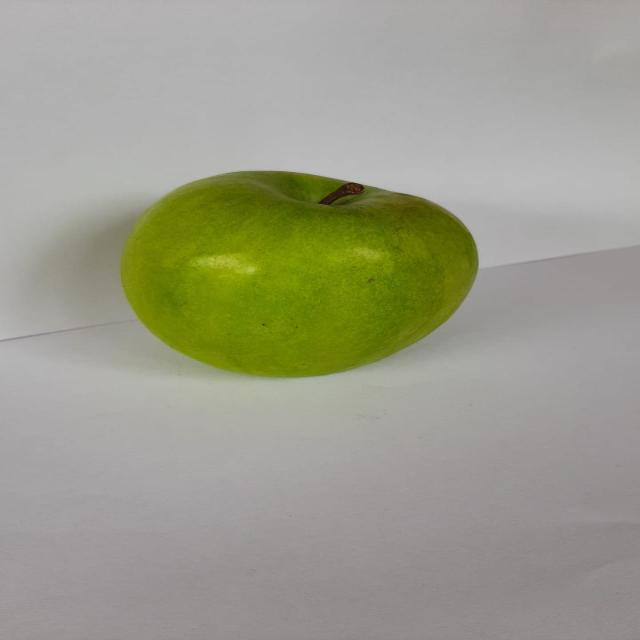50-_ripeness: (100, 162, 490, 385)
